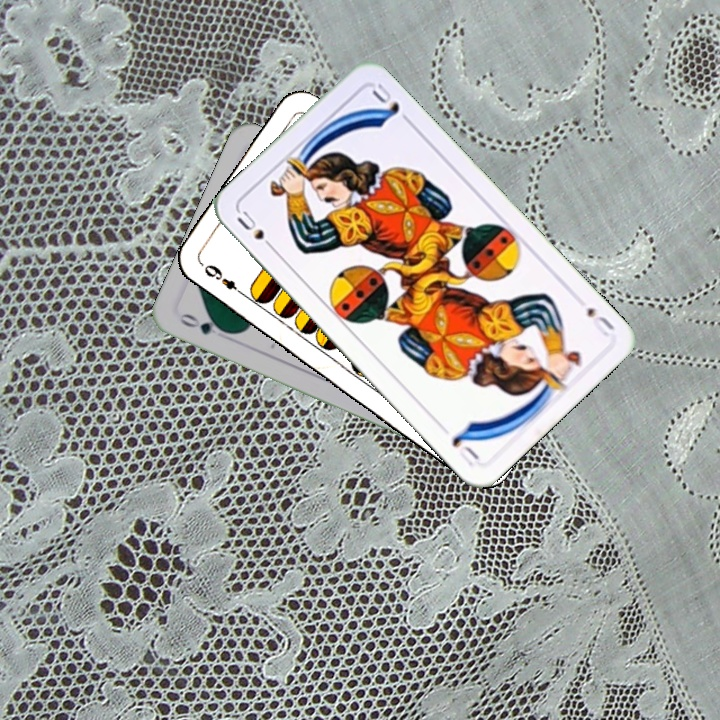E9: (197, 259, 248, 299)
GO: (175, 309, 232, 338)
SU: (232, 206, 279, 255), (582, 303, 618, 340)
